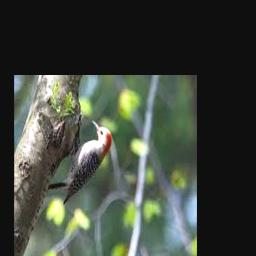Woodpecker: (47, 118, 111, 204)
